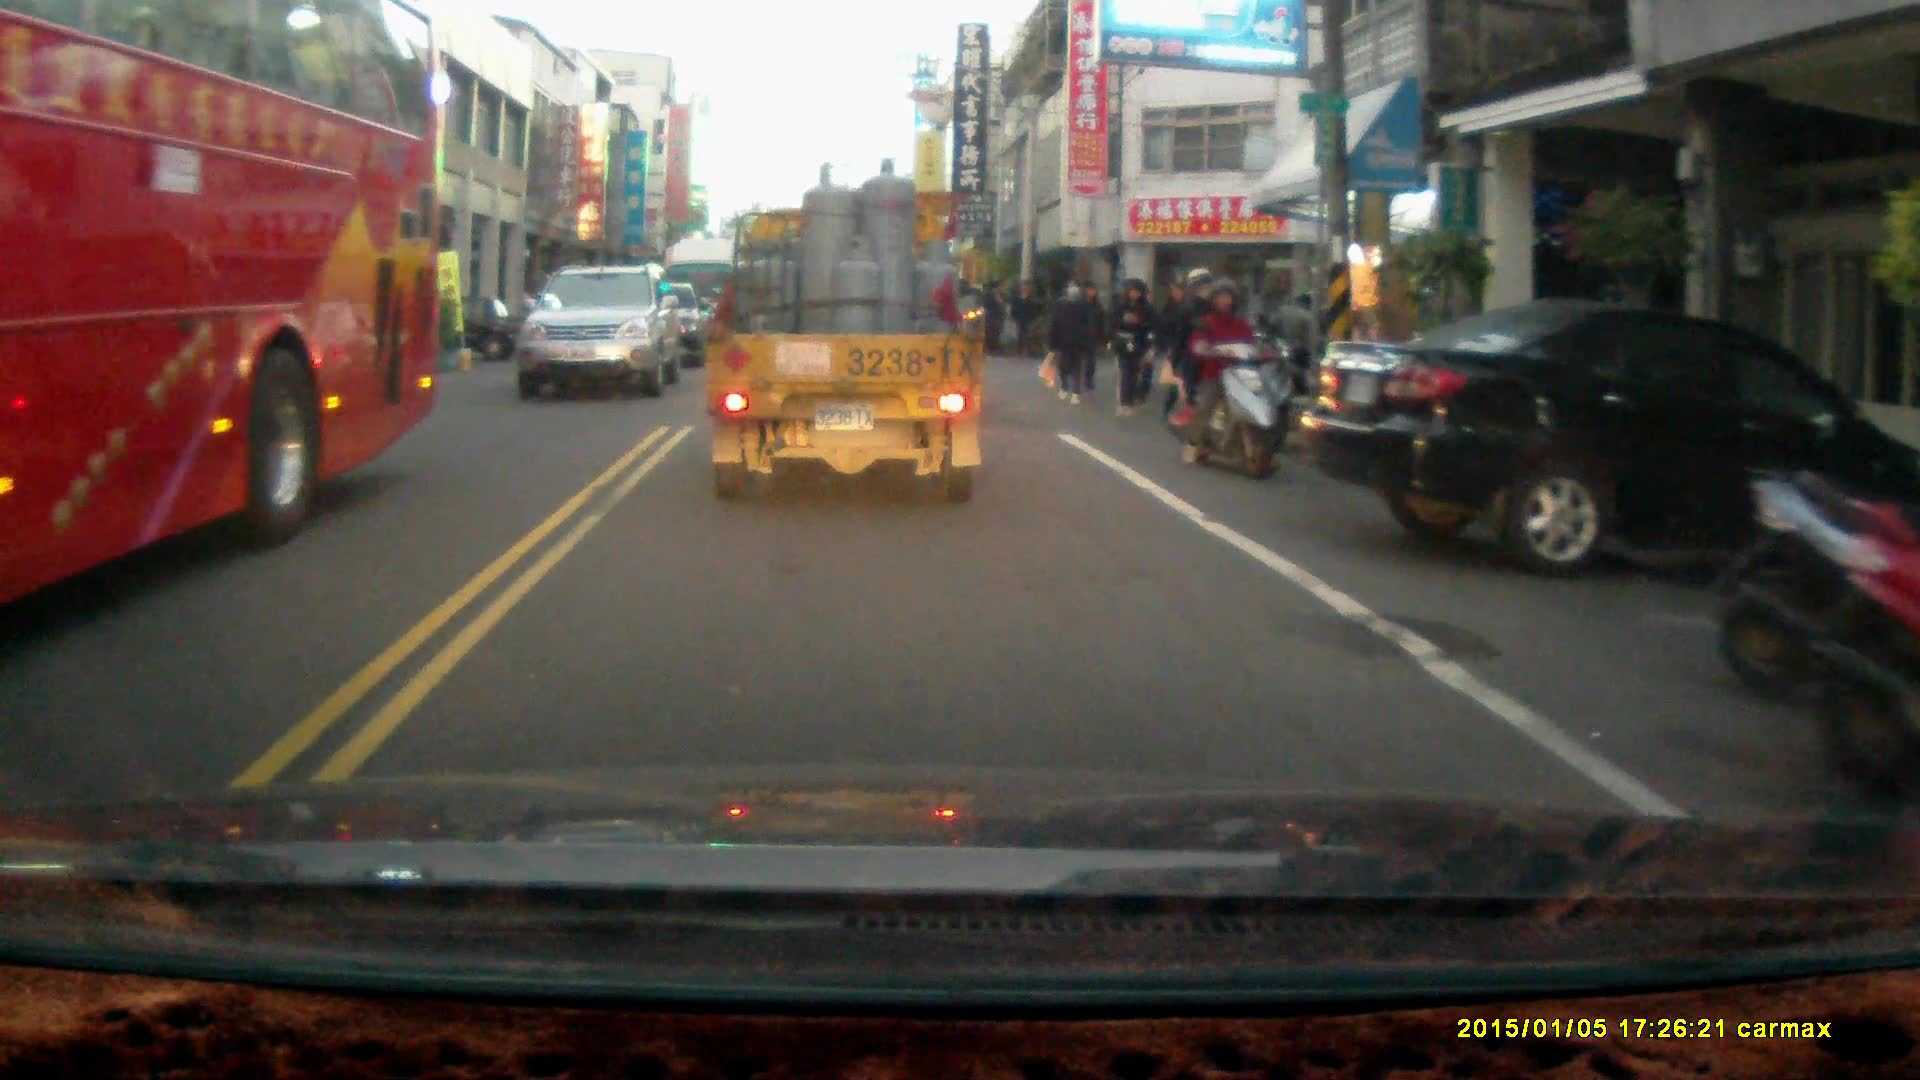pedestrian: (1155, 278, 1204, 417), (1114, 272, 1155, 416), (1046, 275, 1091, 405), (1008, 274, 1038, 359), (981, 276, 1009, 359)
rider: (1163, 264, 1271, 473)
vehicle: (1, 7, 444, 604), (1309, 302, 1920, 578), (708, 156, 991, 505), (512, 266, 681, 407)
